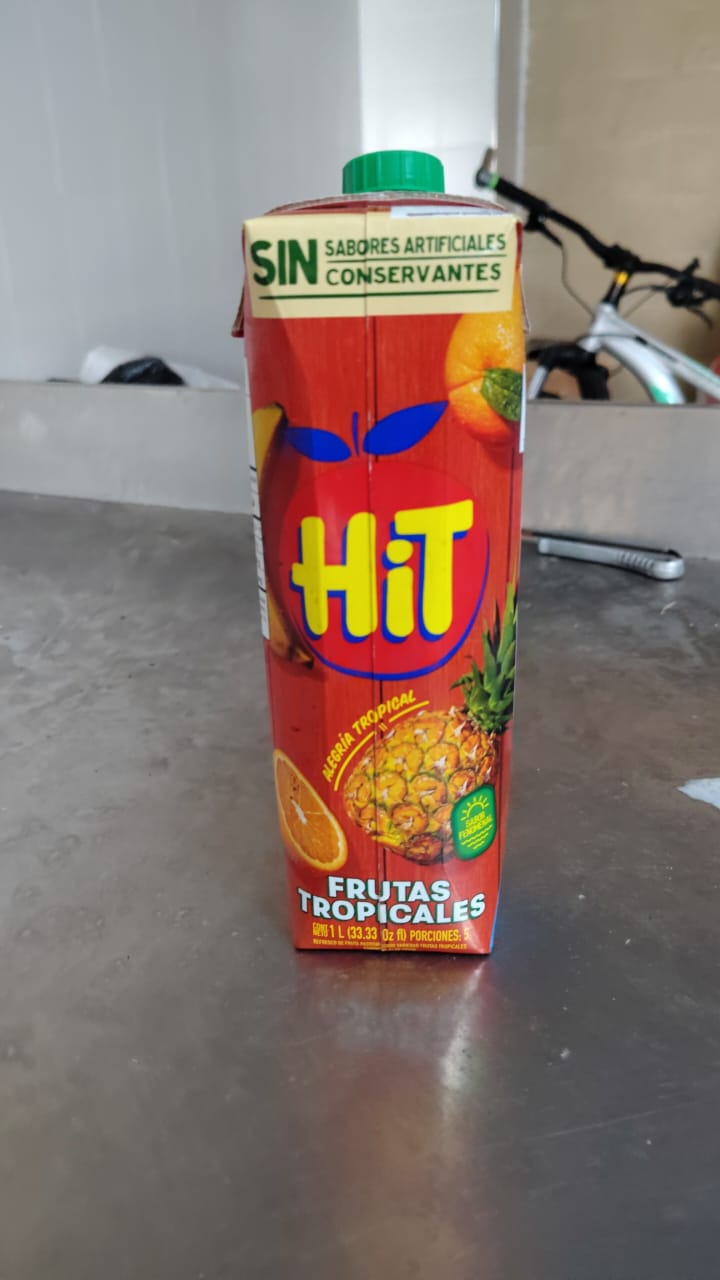Carton: (243, 202, 523, 957)
